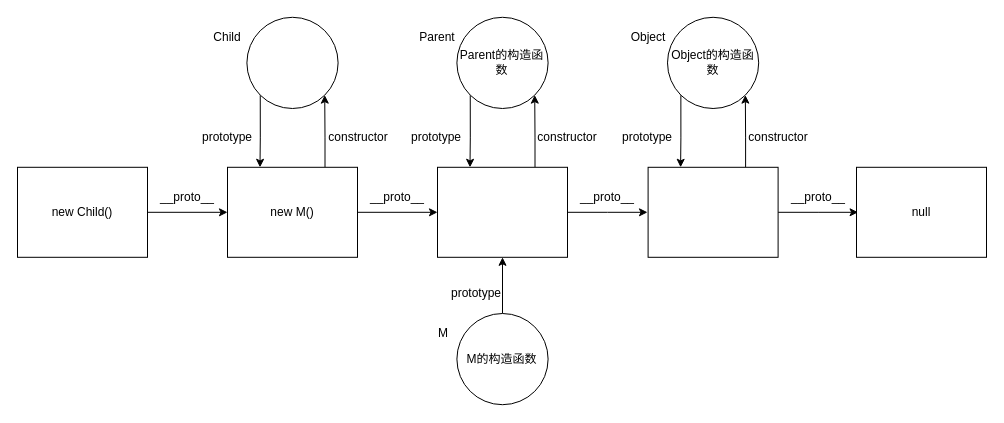
The diagram is 1004 pixels wide and 423 high, and some of its shapes have lost their labels. Each missing label, with the box of its shape:
Child的构造函数: (246, 16, 338, 108)
Object的 原型: (647, 166, 778, 257)
Parent的 原型: (436, 166, 568, 257)
